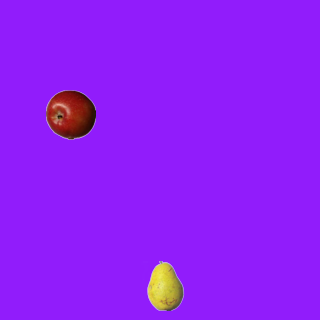Apple Braeburn: (45, 89, 95, 139)
Pear Monster: (140, 260, 190, 310)
